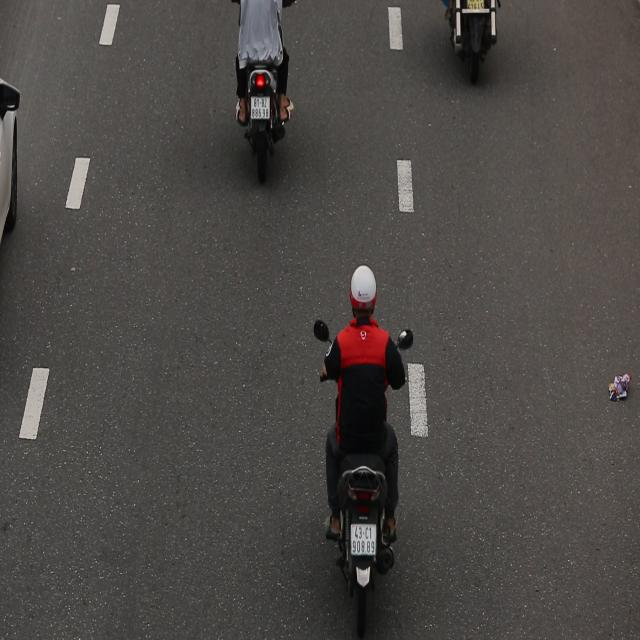motorbike: (310, 255, 419, 634)
